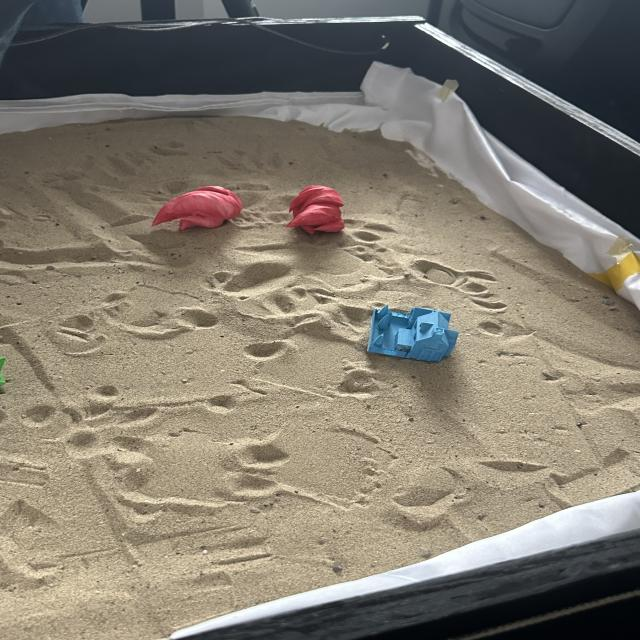fire: (150, 184, 243, 232), (284, 183, 346, 236)
house: (364, 302, 461, 363)
